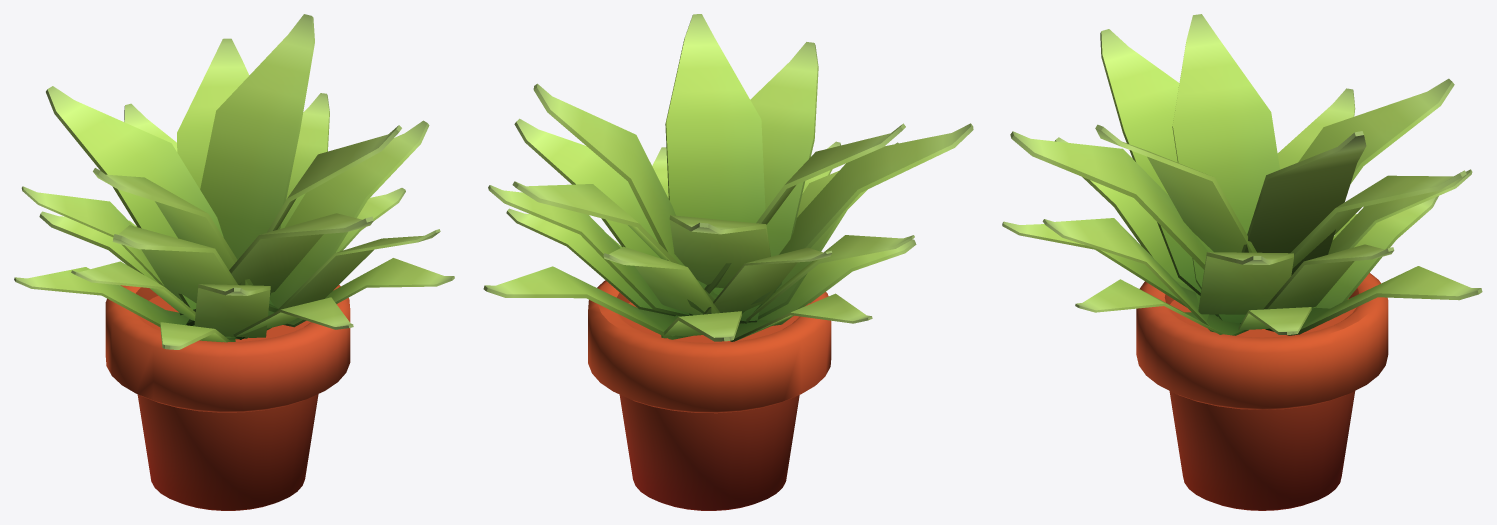
Rendered from plant-transformed.glb.
The picture shows the model from 3 angles, left to right: view 1: azimuth 30°, elevation 25°; view 2: azimuth 150°, elevation 25°; view 3: azimuth 270°, elevation 25°; orthographic projection. The views are drawn at different scales.
Visible parts, largest first — view 1: Cylinder_Material.001_0, Cylinder_Material.002_0; view 2: Cylinder_Material.001_0, Cylinder_Material.002_0; view 3: Cylinder_Material.001_0, Cylinder_Material.002_0.
Part boxes in pixels (x1,y1,x2,y2): Cylinder_Material.001_0: (14, 14, 454, 510); Cylinder_Material.002_0: (138, 295, 310, 341); Cylinder_Material.001_0: (483, 14, 973, 510); Cylinder_Material.002_0: (618, 302, 799, 342); Cylinder_Material.001_0: (1002, 14, 1482, 510); Cylinder_Material.002_0: (1169, 298, 1356, 337).
Size of the model in its own units: 4.7 by 4.66 by 4.92.
2 materials, 2 textured.
